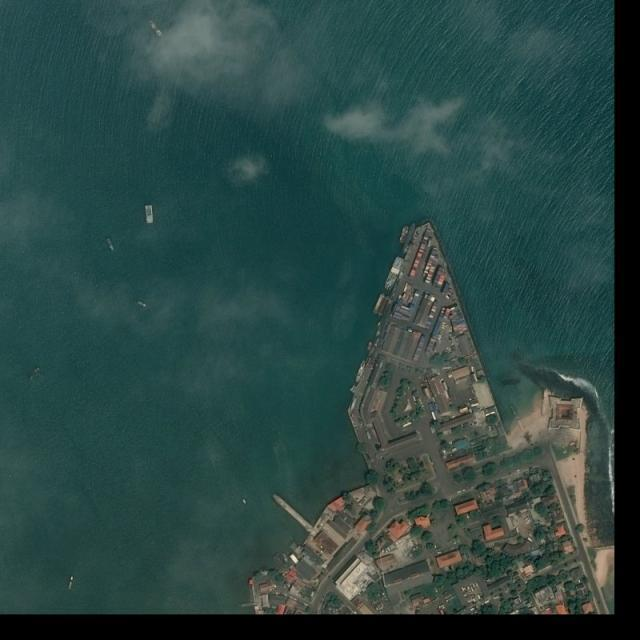ship: (146, 18, 165, 38), (28, 367, 42, 381), (145, 206, 154, 224), (106, 238, 116, 252), (137, 301, 148, 309), (68, 576, 74, 590), (242, 499, 248, 505)
